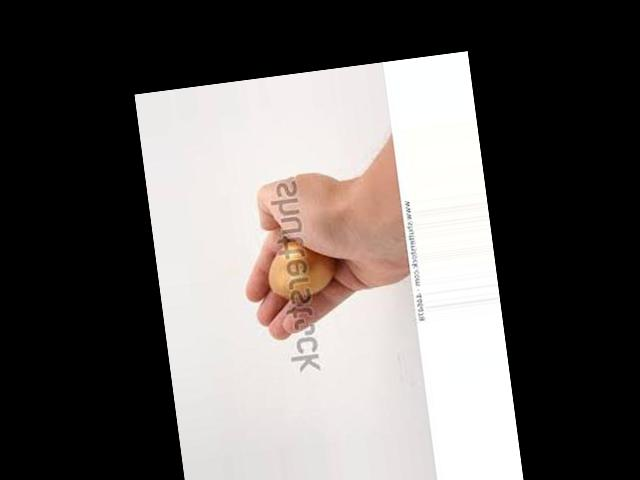egg: (264, 238, 337, 301)
